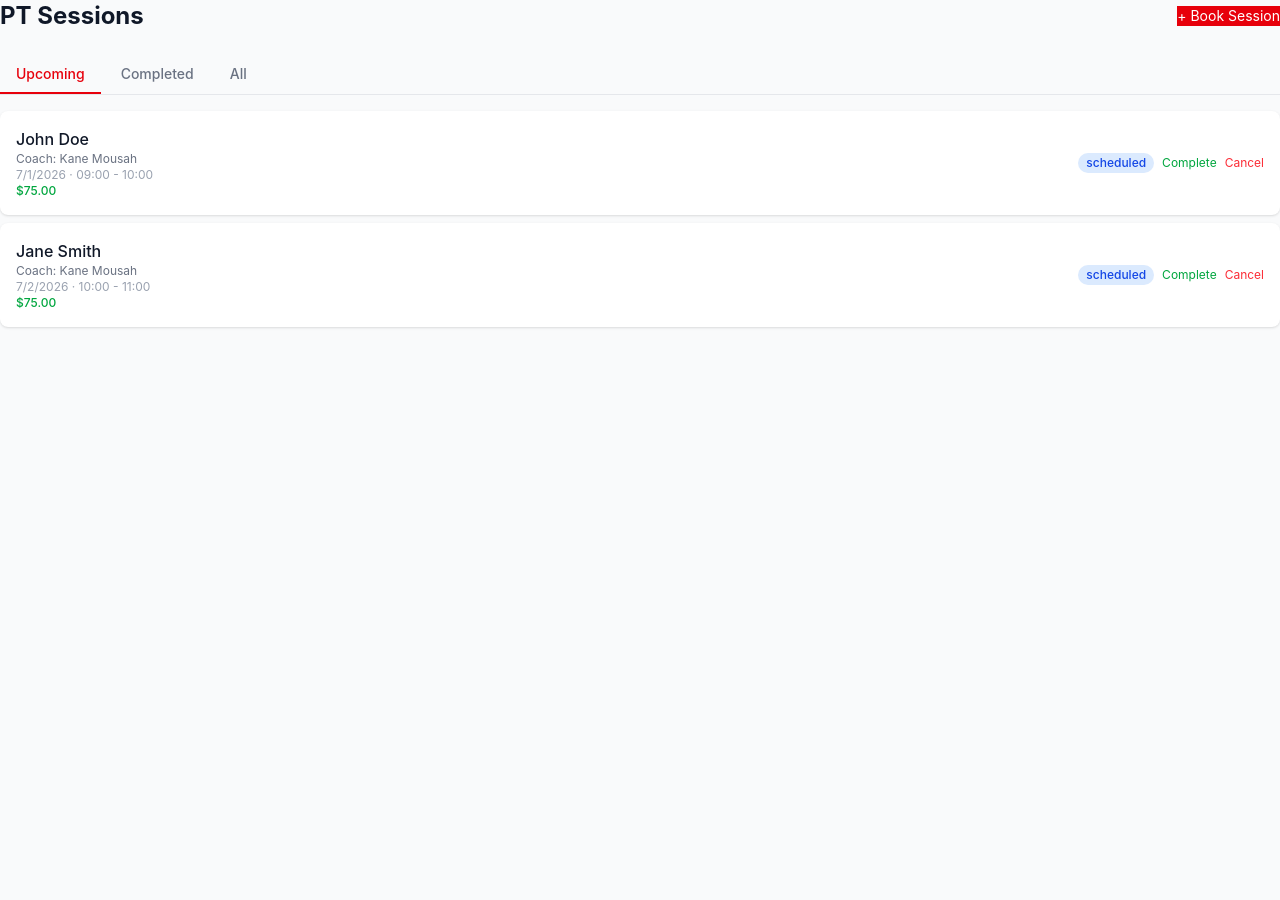
Test: PTSessions Page › opens booking modal on + Book Session click
This screenshot has width=1280, height=900.
What coordinates should you click on to do the following:
click the button "+ Book Session"
I would click on:
 (1229, 16)
Its box is x1=1177 y1=6 x2=1279 y2=26.
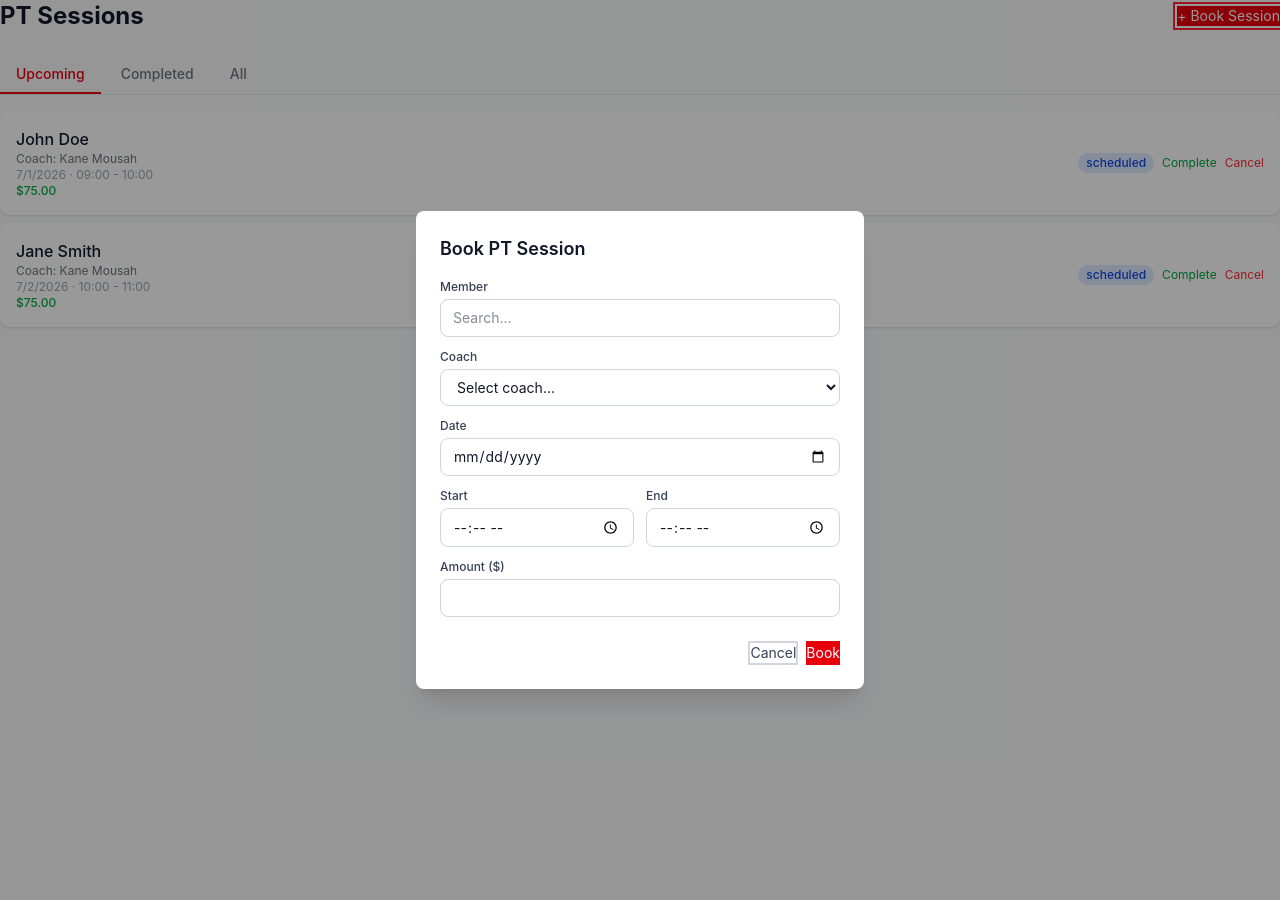
Now the heading "Book PT Session" is shown, box x1=440 y1=238 x2=585 y2=259
